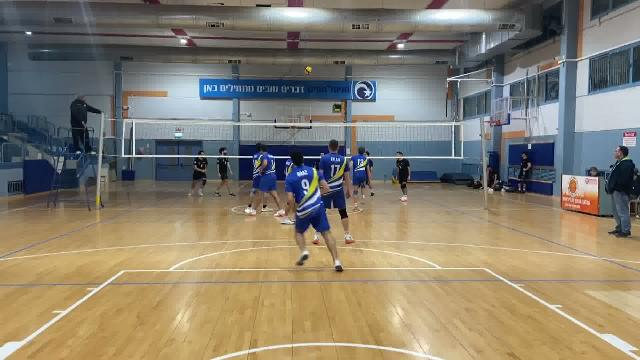ball: (305, 65, 315, 76)
